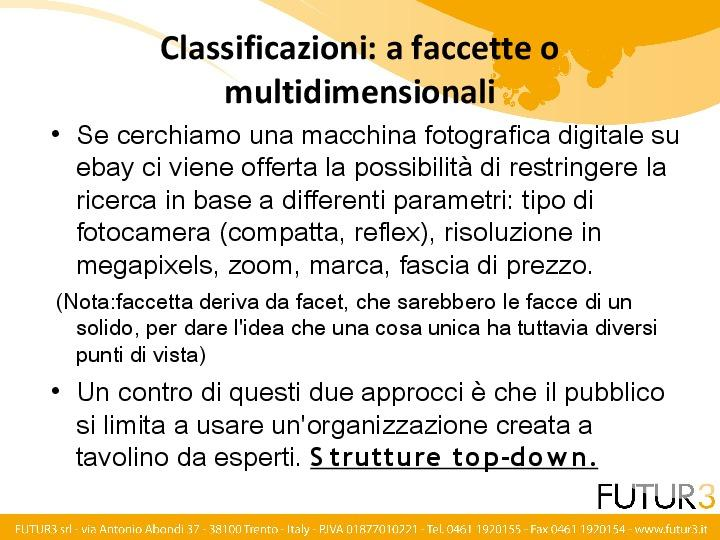paragraph: (52, 119, 714, 473)
title: (143, 23, 576, 114)
